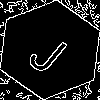J: (25, 25, 76, 77)
